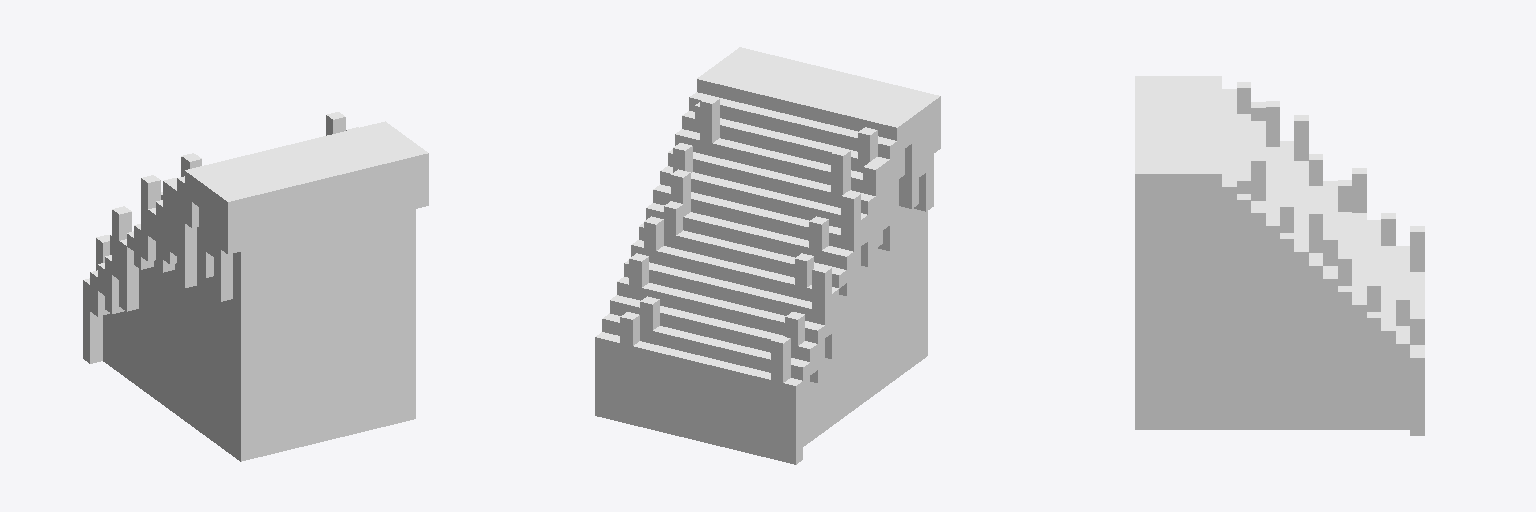
The model's file is sueloPlataform-5 1.obj.
3 renders of one model, left to right at view 1: azimuth 30°, elevation 25°; view 2: azimuth 150°, elevation 25°; view 3: azimuth 270°, elevation 25°, orthographic.
Parts seen in each view (by area): view 1: object 1; view 2: object 1; view 3: object 1.
Boxes of the visible parts, x1=… form: object 1: x1=83, y1=112, x2=428, y2=461; object 1: x1=595, y1=47, x2=940, y2=464; object 1: x1=1135, y1=76, x2=1424, y2=435.
Bounding box in the file's own units: 1.6 × 2 × 2.